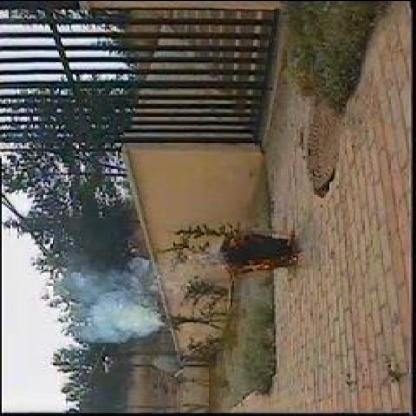-: (78, 271, 160, 344)
foggia-v2-map80-epoch100 - v1 4323: (223, 256, 283, 276)
